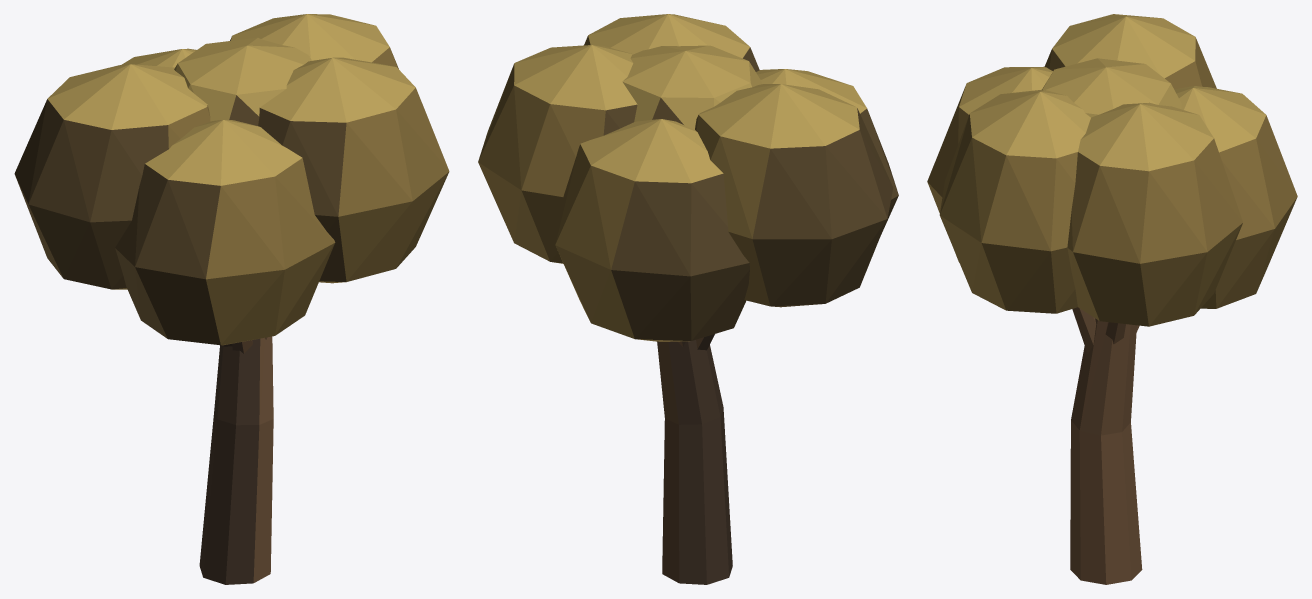
The model's file is TW_TREE_ROUND_BROAD_B_LOD0.glb.
3 renders of one model, left to right at view 1: azimuth 30°, elevation 25°; view 2: azimuth 150°, elevation 25°; view 3: azimuth 270°, elevation 25°, orthographic. The views are drawn at different scales.
Parts seen in each view (by area): view 1: TW_TREE_ROUND_BROAD_B_LOD0; view 2: TW_TREE_ROUND_BROAD_B_LOD0; view 3: TW_TREE_ROUND_BROAD_B_LOD0.
Part boxes in pixels (x1=…): TW_TREE_ROUND_BROAD_B_LOD0: x1=14, y1=14, x2=449, y2=584; TW_TREE_ROUND_BROAD_B_LOD0: x1=478, y1=14, x2=898, y2=584; TW_TREE_ROUND_BROAD_B_LOD0: x1=927, y1=14, x2=1297, y2=584.
Bounding box in the file's own units: 2.92 × 3.7 × 2.44.
Materials: 1 (1 with a texture image).
